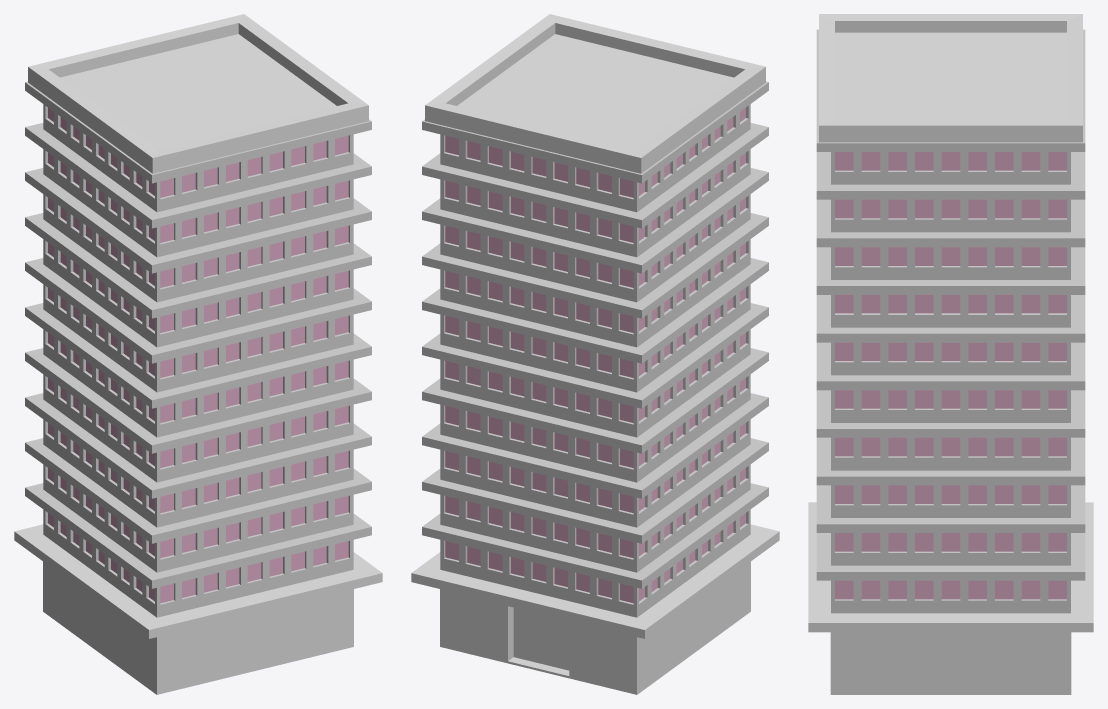
File: Building01model.fbx
3 views of the same model, side by side, from view 1: azimuth 30°, elevation 25°; view 2: azimuth 150°, elevation 25°; view 3: azimuth 270°, elevation 25° (orthographic). The views are drawn at different scales.
Parts seen in each view (by area): view 1: Plane.001, Plane.002, Plane; view 2: Plane.001, Plane.002, Plane; view 3: Plane.001, Plane.002, Plane.
Boxes of the visible parts, x1,y1,x2,y2 form: Plane.001: (25,81,371,617); Plane.002: (28,14,368,173); Plane: (14,524,382,694); Plane.001: (422,81,768,617); Plane.002: (425,14,765,173); Plane: (411,524,779,694); Plane.001: (816,29,1085,613); Plane.002: (819,14,1082,142); Plane: (808,502,1093,694).
Bounding box in the file's own units: 1074 × 2388 × 1074.
